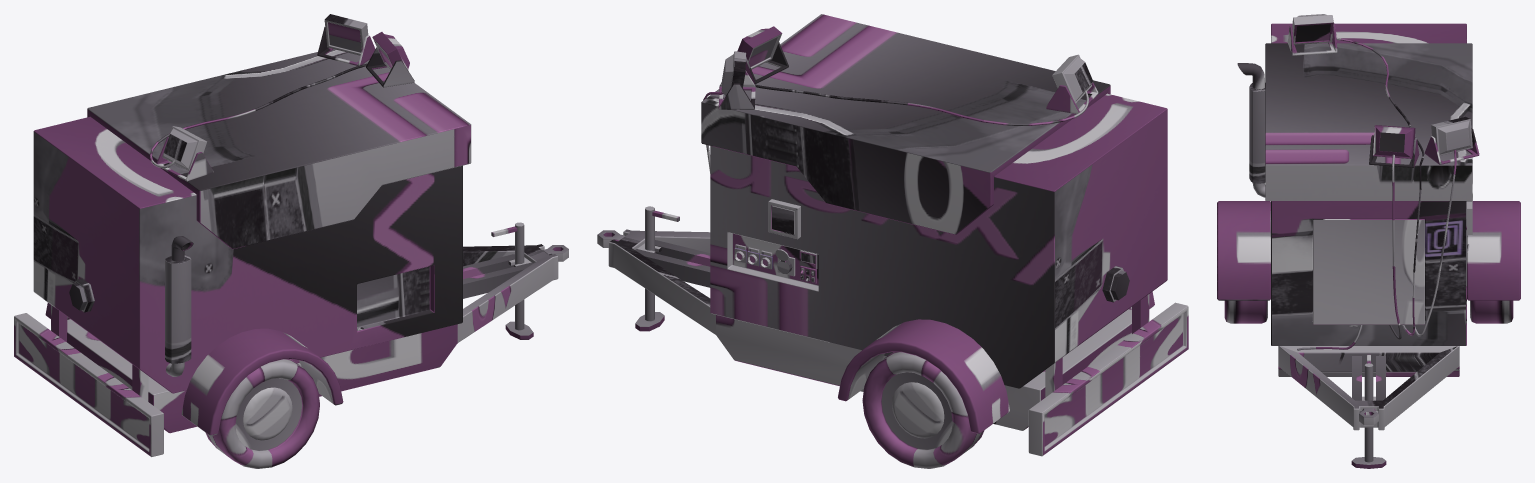
File: SM_IndustrialGenerator.fbx
The picture shows the model from 3 angles, left to right: view 1: azimuth 30°, elevation 25°; view 2: azimuth 150°, elevation 25°; view 3: azimuth 270°, elevation 25°; orthographic projection. The views are drawn at different scales.
Parts seen in each view (by area): view 1: Main_Body, Top_Armor, Frame, Wheels, Rear_Bumper, Wheel_MudFlaps, Flood Lamps, Exust, Frame_1, Cube, Rear_Bumper_holder, Cables (+1 smaller); view 2: Main_Body, Top_Armor, Frame, Wheels, Rear_Bumper, Wheel_MudFlaps, Flood Lamps, Frame_1, Cube, Cables, Rear_Bumper_holder, Cylinder (+2 smaller); view 3: Top_Armor, Main_Body, Front_Lid, Wheel_MudFlaps, Frame, Flood Lamps, Cables, Exust, Wheels, Cube, Frame_1.
Boxes of the visible parts, left/top/right/bottom form: Main_Body: left=33, top=116, right=462, bottom=393; Top_Armor: left=87, top=49, right=471, bottom=249; Frame: left=67, top=244, right=558, bottom=433; Wheels: left=205, top=359, right=319, bottom=468; Rear_Bumper: left=14, top=313, right=163, bottom=457; Wheel_MudFlaps: left=45, top=302, right=343, bottom=435; Flood Lamps: left=156, top=14, right=414, bottom=181; Exust: left=165, top=236, right=193, bottom=376; Frame_1: left=463, top=254, right=533, bottom=298; Cube: left=491, top=222, right=533, bottom=339; Rear_Bumper_holder: left=51, top=305, right=148, bottom=401; Cables: left=150, top=63, right=408, bottom=168; Main_Body: left=710, top=93, right=1167, bottom=388; Top_Armor: left=701, top=14, right=1110, bottom=234; Frame: left=608, top=229, right=1131, bottom=430; Wheels: left=862, top=352, right=984, bottom=468; Rear_Bumper: left=1028, top=302, right=1188, bottom=456; Wheel_MudFlaps: left=838, top=291, right=1154, bottom=433; Flood Lamps: left=718, top=26, right=1098, bottom=113; Frame_1: left=635, top=240, right=710, bottom=287; Cube: left=635, top=206, right=679, bottom=331; Cables: left=703, top=82, right=1088, bottom=173; Rear_Bumper_holder: left=1045, top=294, right=1149, bottom=397; Cylinder: left=1102, top=266, right=1129, bottom=302; Top_Armor: left=1265, top=43, right=1472, bottom=201; Main_Body: left=1271, top=23, right=1466, bottom=345; Front_Lid: left=1313, top=219, right=1424, bottom=324; Wheel_MudFlaps: left=1217, top=201, right=1520, bottom=300; Frame: left=1278, top=346, right=1459, bottom=430; Flood Lamps: left=1287, top=14, right=1479, bottom=167; Cables: left=1297, top=37, right=1456, bottom=350; Exust: left=1237, top=63, right=1265, bottom=197; Wheels: left=1224, top=300, right=1513, bottom=323; Cube: left=1351, top=354, right=1386, bottom=468; Frame_1: left=1352, top=356, right=1385, bottom=400.
Size of the model in its own units: 303 by 177 by 184.
